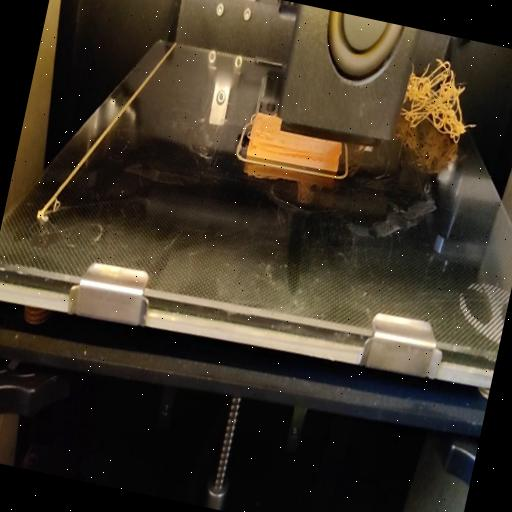spaghetti: (398, 52, 487, 146)
